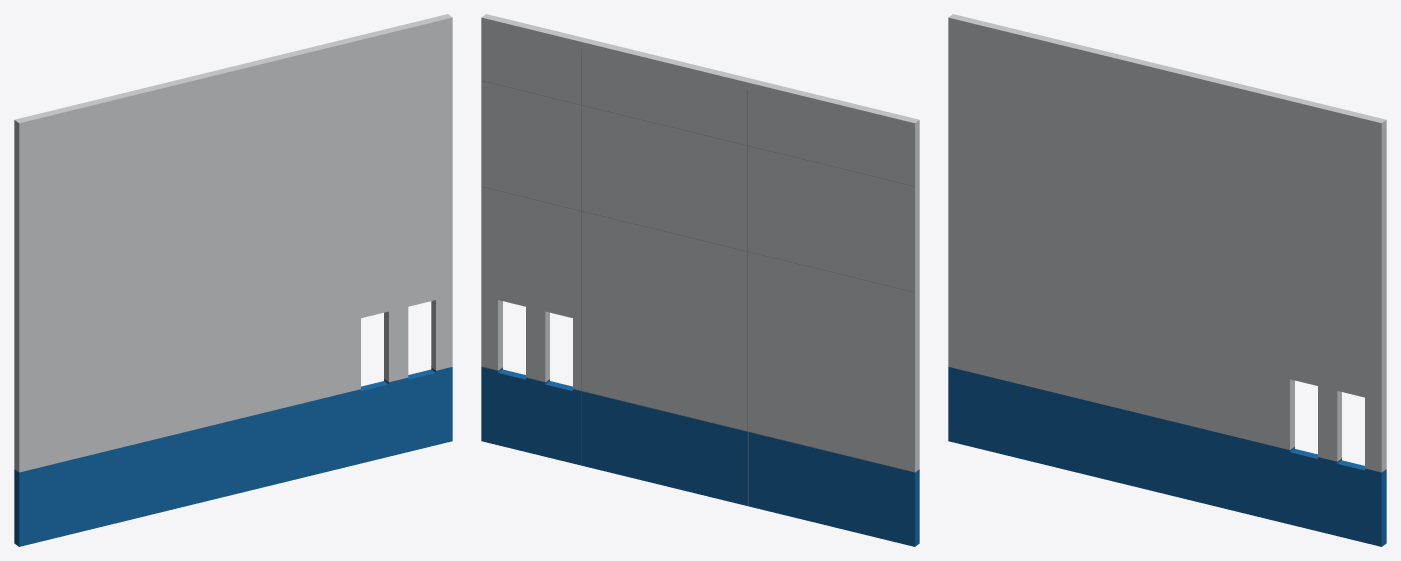
File: SM_MPR_CAD_WindowFacade_00_20261112.fbx
The picture shows the model from 3 angles, left to right: view 1: azimuth 30°, elevation 25°; view 2: azimuth 150°, elevation 25°; view 3: azimuth 330°, elevation 25°; orthographic projection.
Parts seen in each view (by area): view 1: SM_MPR_CAD_WindowFacade_00_20261112; view 2: SM_MPR_CAD_WindowFacade_00_20261112; view 3: SM_MPR_CAD_WindowFacade_00_20261112.
Part boxes in pixels (x1=…): SM_MPR_CAD_WindowFacade_00_20261112: x1=14, y1=14, x2=452, y2=546; SM_MPR_CAD_WindowFacade_00_20261112: x1=481, y1=14, x2=919, y2=546; SM_MPR_CAD_WindowFacade_00_20261112: x1=948, y1=14, x2=1386, y2=546.
Bounding box in the file's own units: 1585 × 31.44 × 1480.
